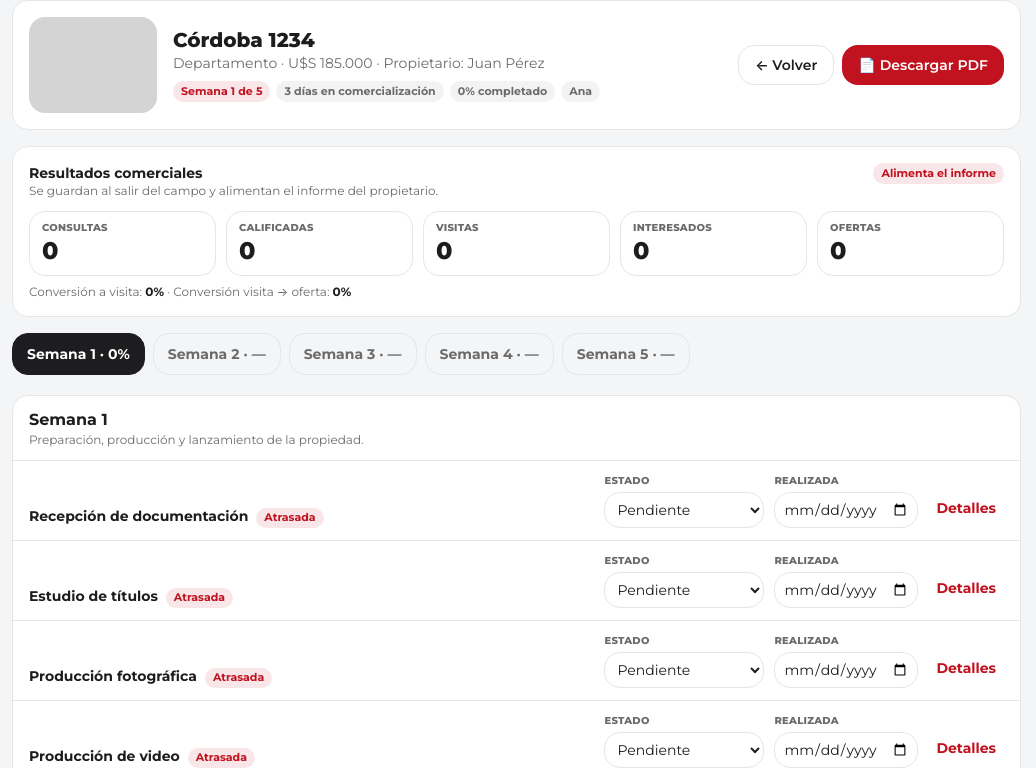
Test: DetalleProtocolo — guardado optimista › revierte el cambio si la API falla y explica el error
Select "Realizada" in the dropdown labelled "Estado" in the row of "Recepción de documentación": (684, 510) 604,492 -> 764,528
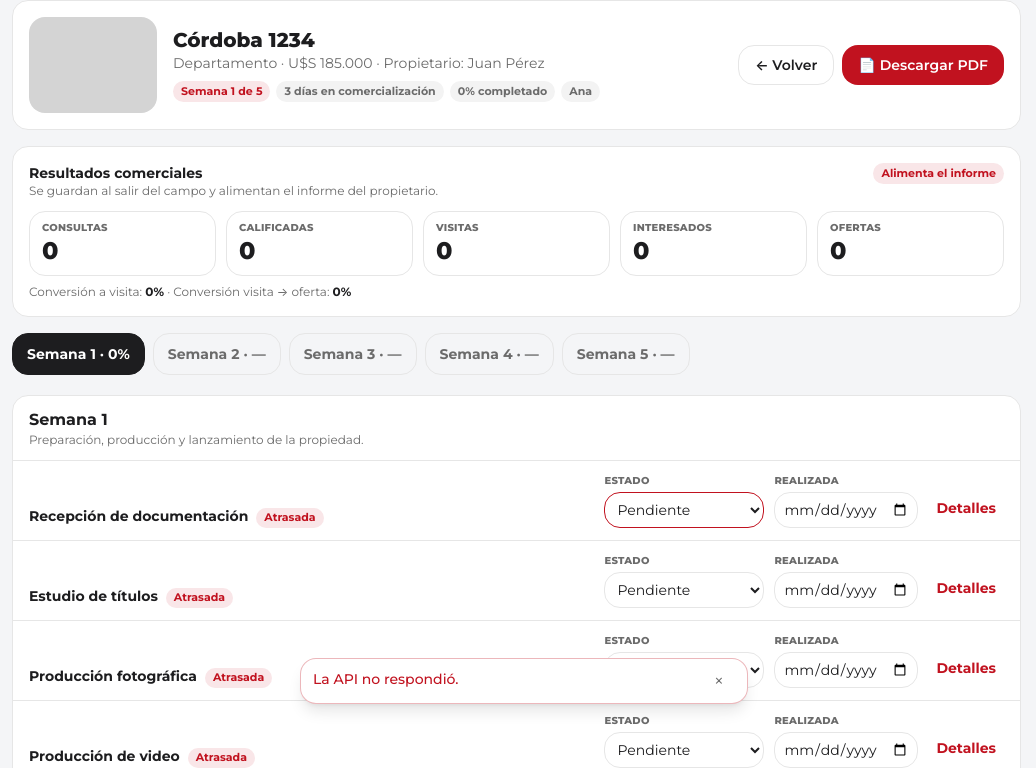
Now the message reads "La API no respondió.", box 313,670 -> 458,688
